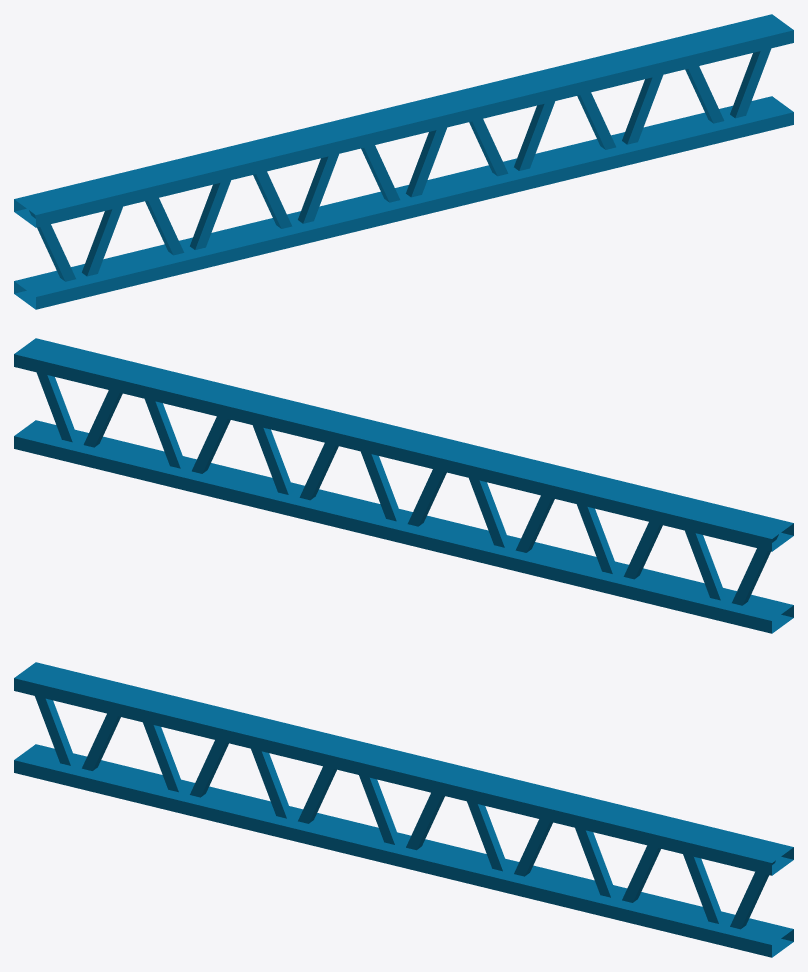
The model's file is Grider_Metal.fbx.
3 renders of one model, top to bottom at view 1: azimuth 30°, elevation 25°; view 2: azimuth 150°, elevation 25°; view 3: azimuth 330°, elevation 25°, orthographic.
Visible parts, largest first — view 1: Grider_Metal; view 2: Grider_Metal; view 3: Grider_Metal.
Part boxes in pixels (x1,y1,x2,y2): Grider_Metal: (14,14,793,309); Grider_Metal: (14,338,793,633); Grider_Metal: (14,662,793,957).
Bounding box in the file's own units: 4 × 0.4773 × 0.2.
